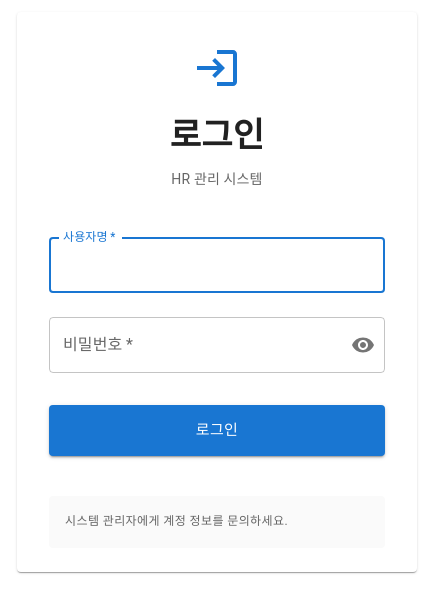
Scenario: Login Component › shows loading spinner during authentication
The width and height of the screenshot is (435, 591).
Type "testuser" into the field named "username".
click(217, 265); type("testuser")  # box [49, 237, 385, 293]
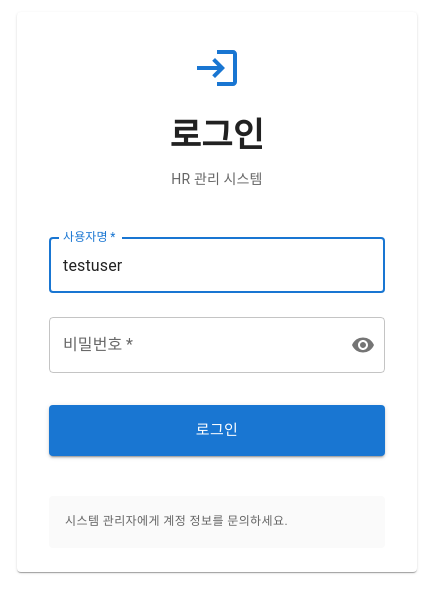
Type "password123" into the password field named "password".
click(192, 345); type("password123")  # box [49, 317, 335, 373]
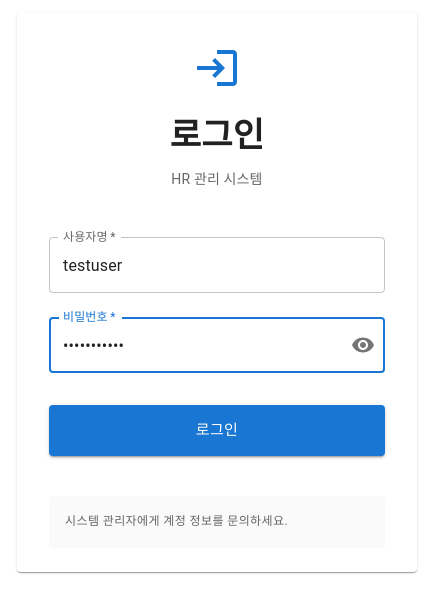
Click the button "로그인".
click(217, 431)  # box [49, 405, 385, 456]
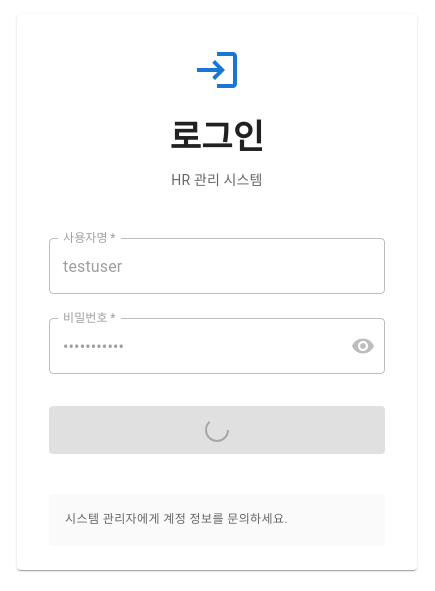
Expected: the progress indicator is shown, [205, 418, 229, 442]
